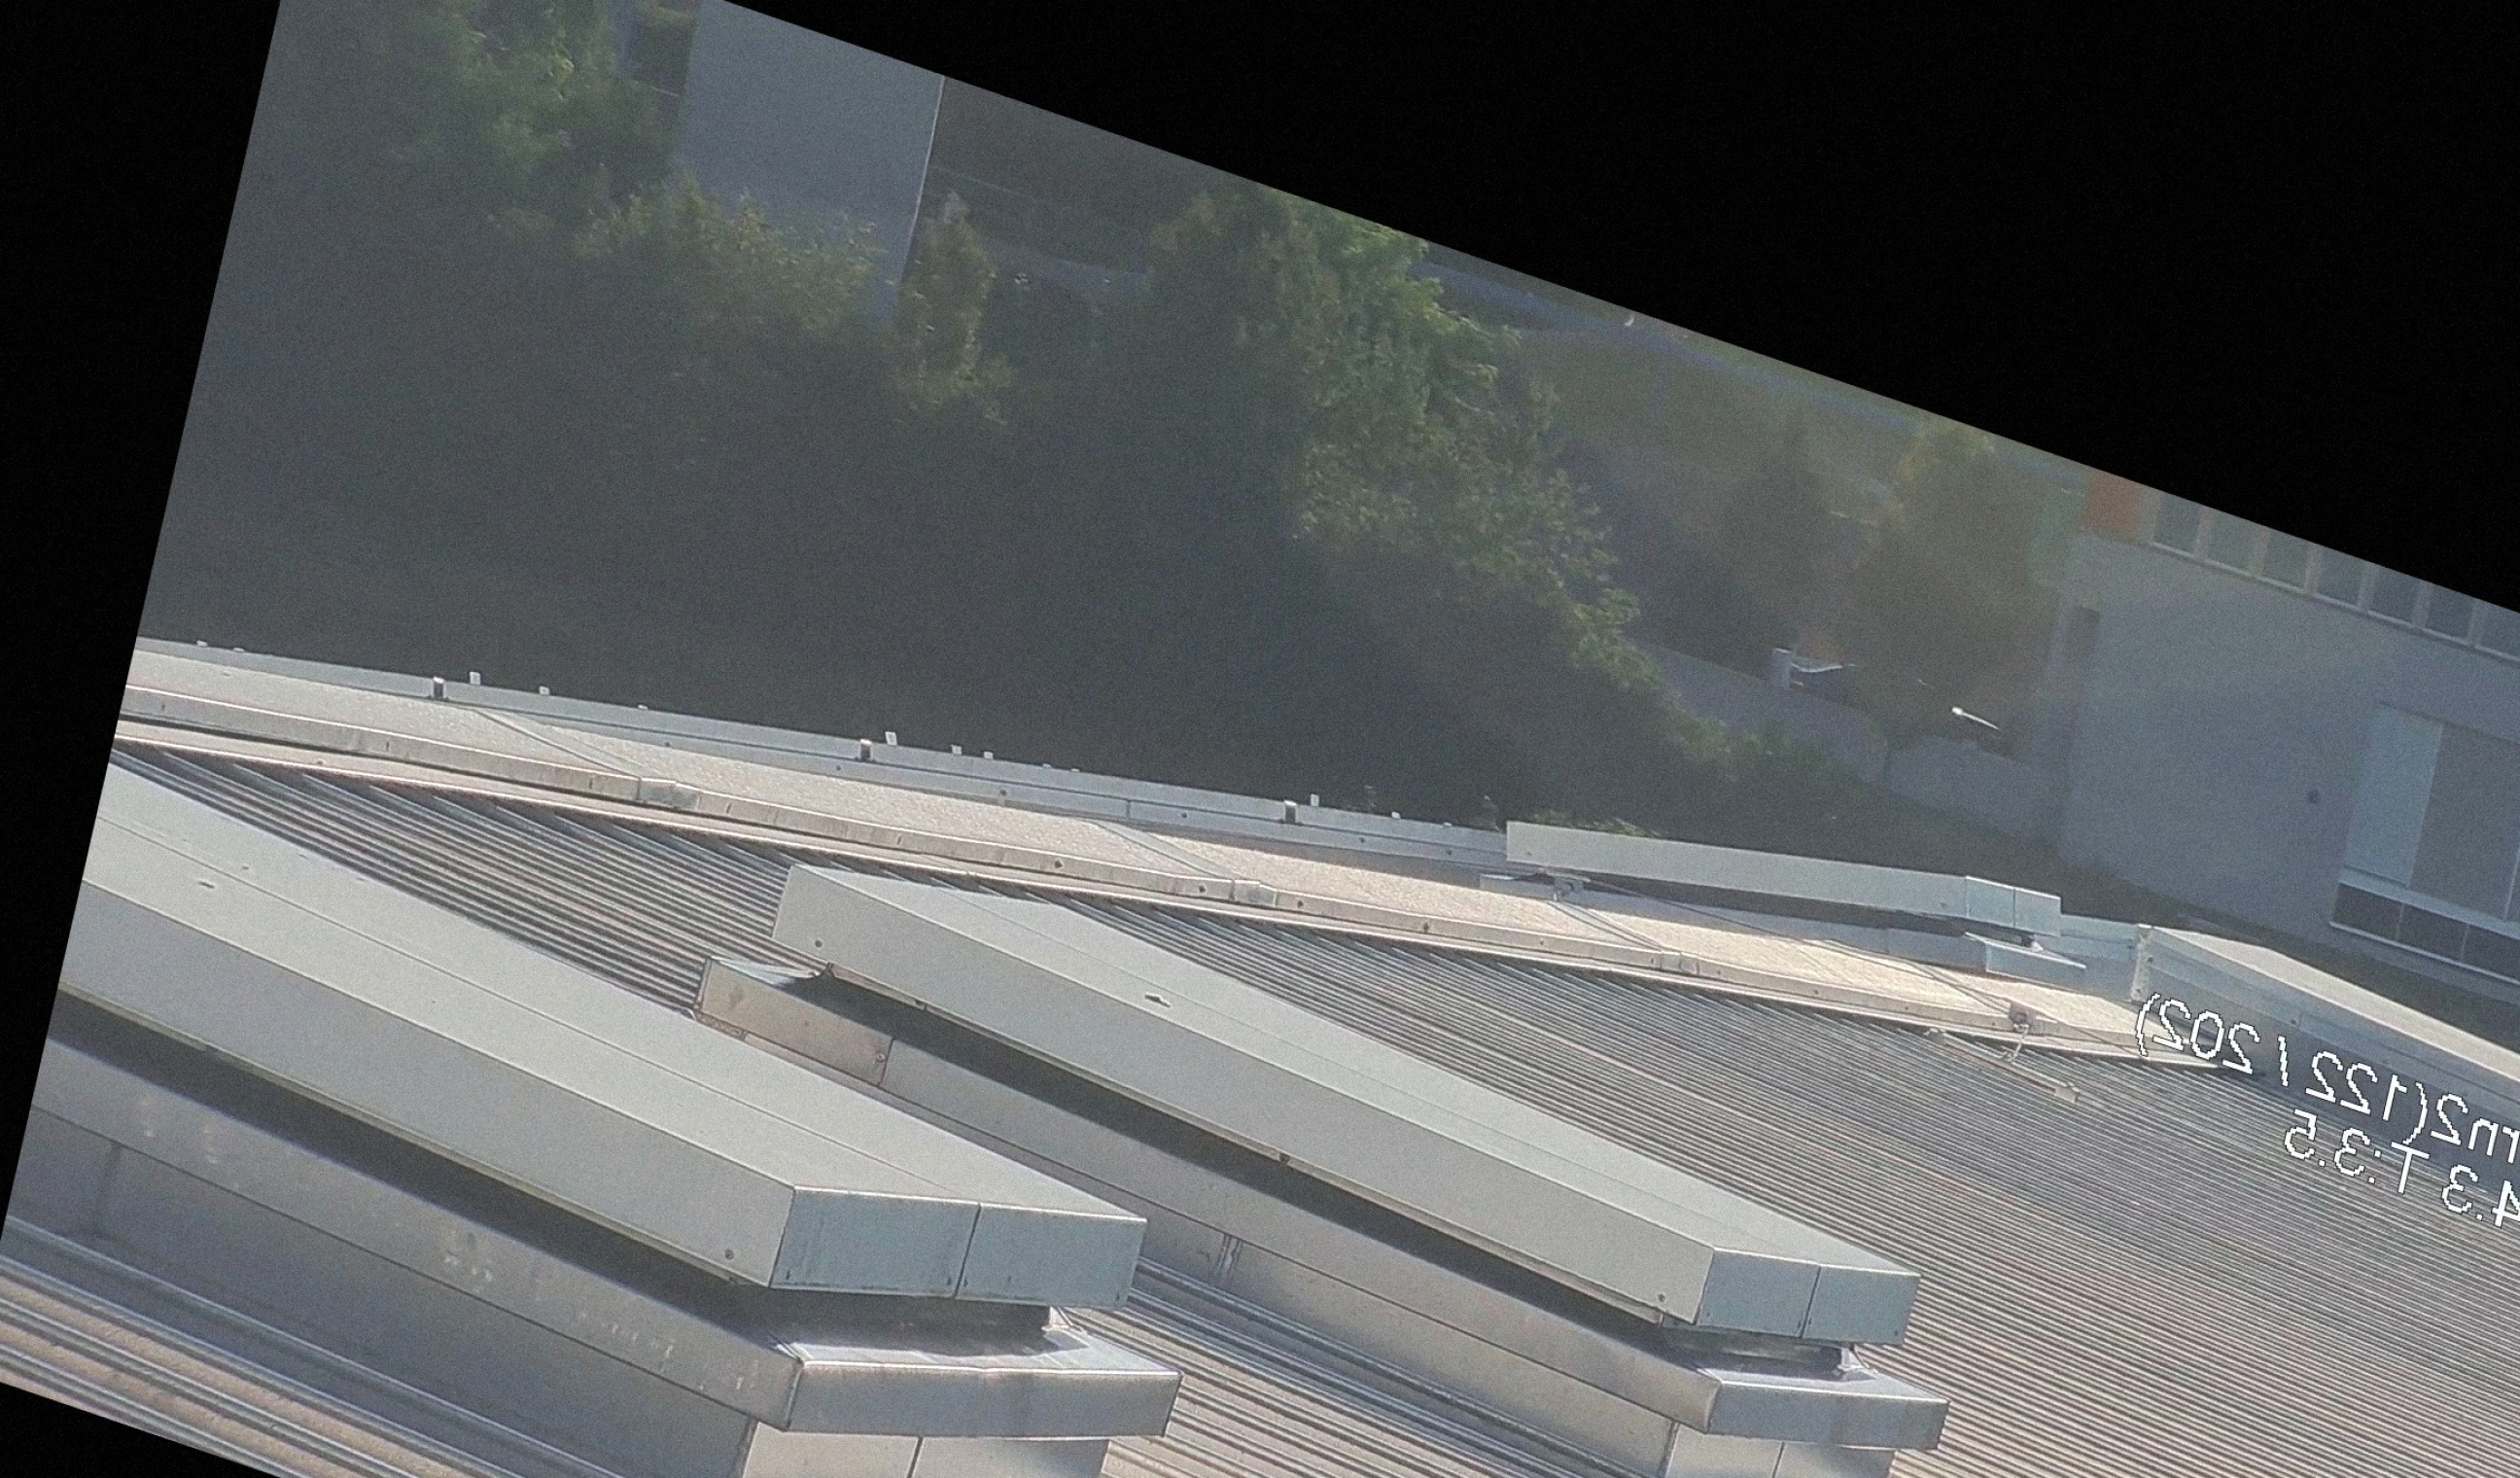Other: (1767, 609, 2015, 801)
